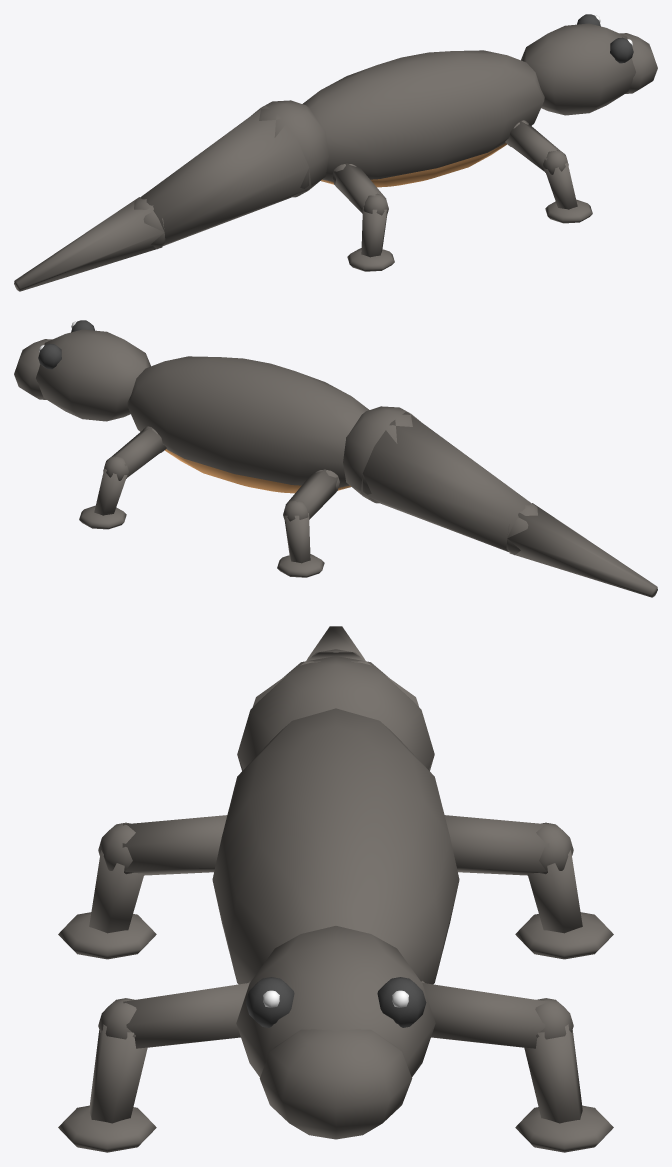
Rendered from chinese-fire-bellied-newt.glb.
3 renders of one model, top to bottom at view 1: azimuth 30°, elevation 25°; view 2: azimuth 150°, elevation 25°; view 3: azimuth 270°, elevation 25°, orthographic. The views are drawn at different scales.
Visible parts, largest first — view 1: e, e.008, e.002, e.021, e.011; view 2: e, e.008, e.002, e.026, e.016; view 3: e, e.002, e.011, e.016, e.021, e.026, e.008.
Part boxes in pixels (<box>): e: <box>303,50,544,187</box>; e.008: <box>14,100,328,291</box>; e.002: <box>521,14,657,115</box>; e.021: <box>332,163,394,271</box>; e.011: <box>505,120,592,223</box>; e: <box>127,356,369,493</box>; e.008: <box>343,406,657,597</box>; e.002: <box>14,320,150,421</box>; e.026: <box>277,469,339,577</box>; e.016: <box>79,426,166,529</box>; e: <box>212,708,459,984</box>; e.002: <box>236,926,435,1139</box>; e.011: <box>58,981,250,1152</box>; e.016: <box>421,981,613,1152</box>; e.021: <box>58,815,227,959</box>; e.026: <box>444,815,613,959</box>; e.008: <box>237,626,434,770</box>.
Size of the model in its own units: 0.7148 by 0.1515 by 0.27.
